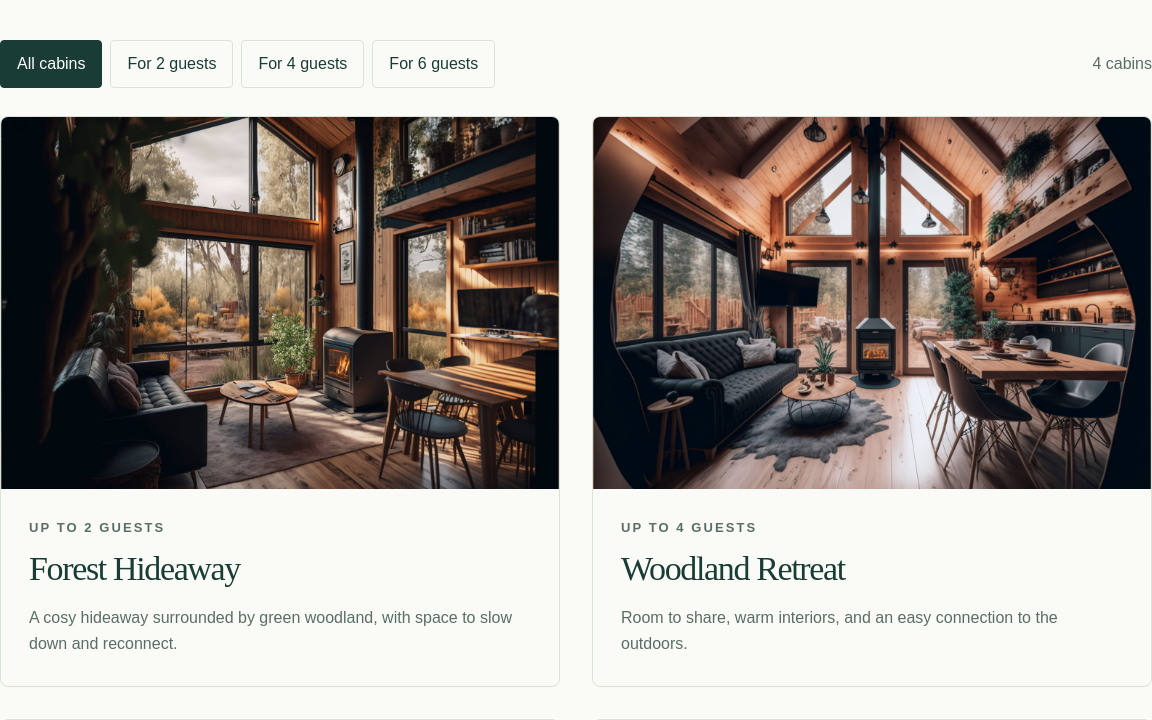
Test case: filters cabins by the required group capacity and restores all results
Later steps or results of the test are not shown.
Click the button "For 4 guests" at (303, 64), box top-left (241, 40), bottom-right (364, 88)
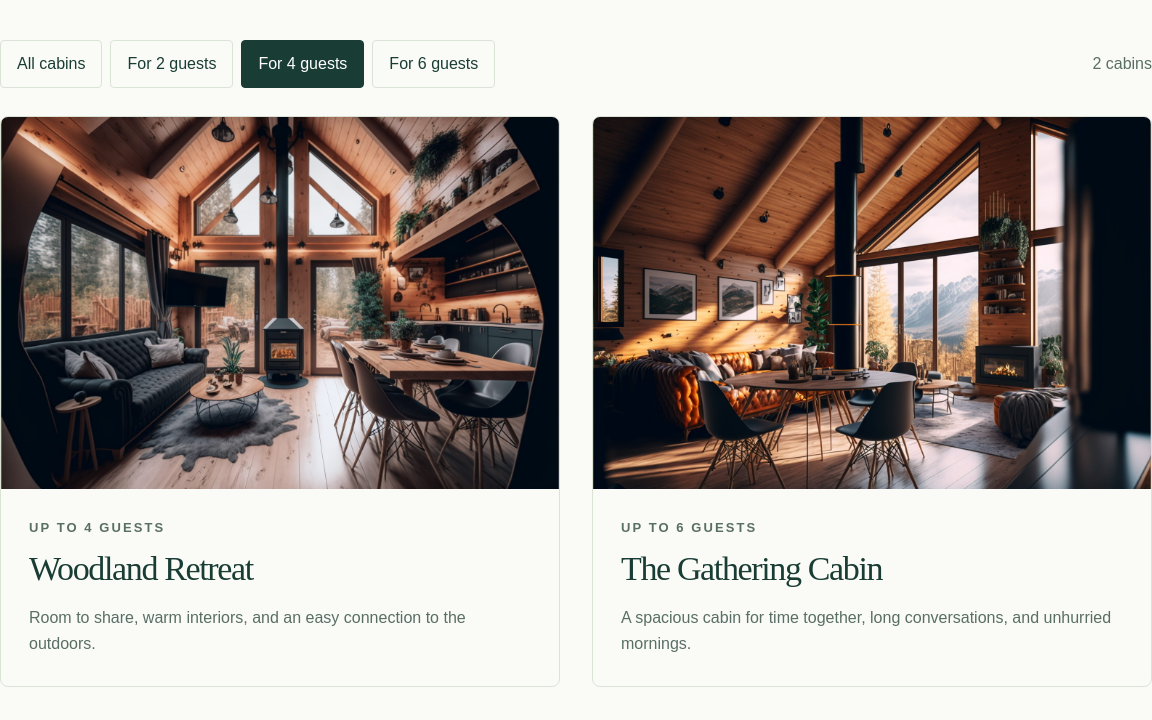
Expected: the message reads "2 cabins", top-left (1092, 51), bottom-right (1151, 77)
